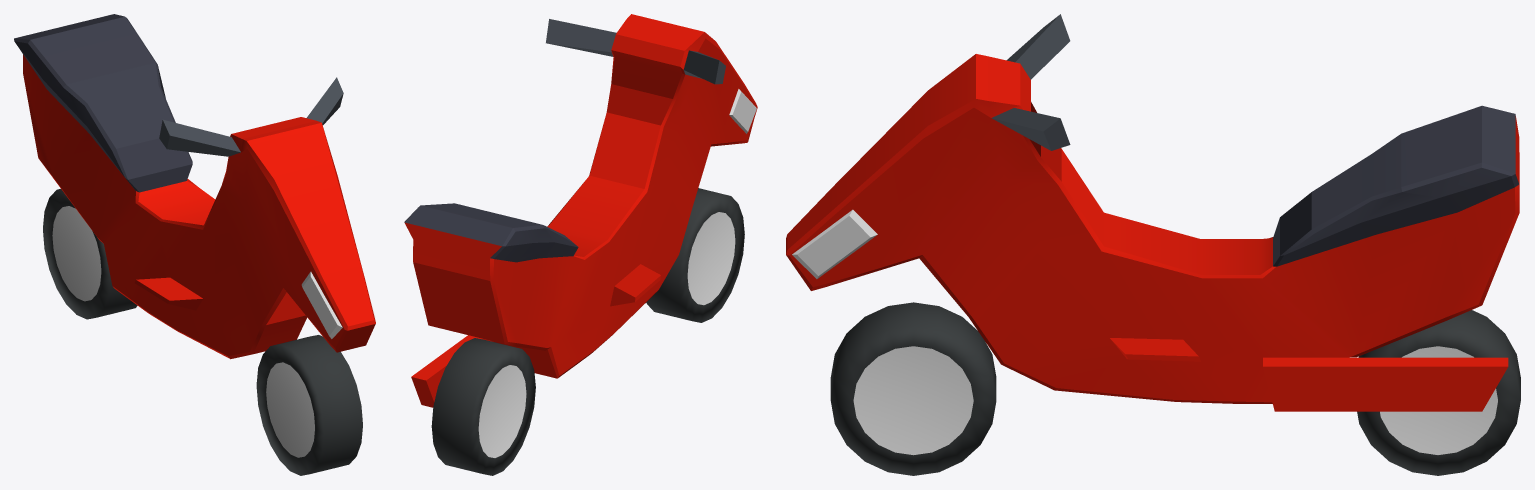
The model's file is motorcycle 2 red.fbx.
3 views of the same model, side by side, from view 1: azimuth 30°, elevation 25°; view 2: azimuth 150°, elevation 25°; view 3: azimuth 270°, elevation 25° (orthographic). The views are drawn at different scales.
Visible parts, largest first — view 1: motorcycle_2_red; view 2: motorcycle_2_red; view 3: motorcycle_2_red.
Part boxes in pixels (left/top/right/bottom): motorcycle_2_red: left=14, top=14, right=375, bottom=475; motorcycle_2_red: left=404, top=14, right=757, bottom=475; motorcycle_2_red: left=786, top=14, right=1520, bottom=475.
Size of the model in its own units: 33.42 by 59.46 by 99.48.
